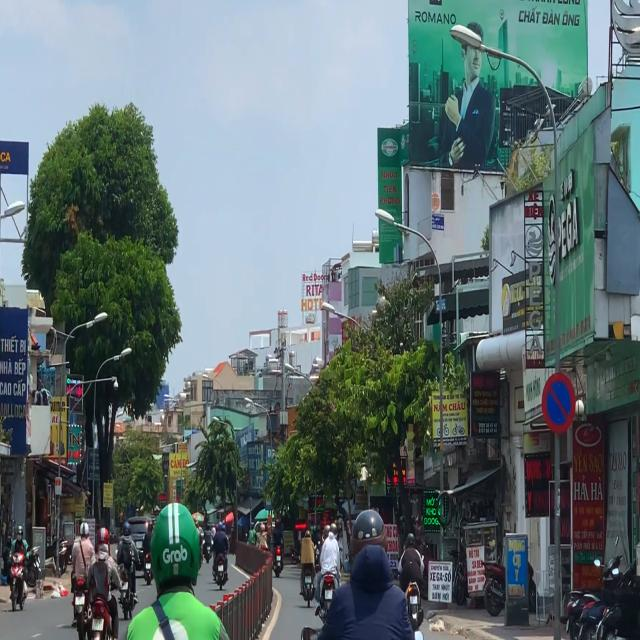Cam do: (540, 370, 576, 436)
